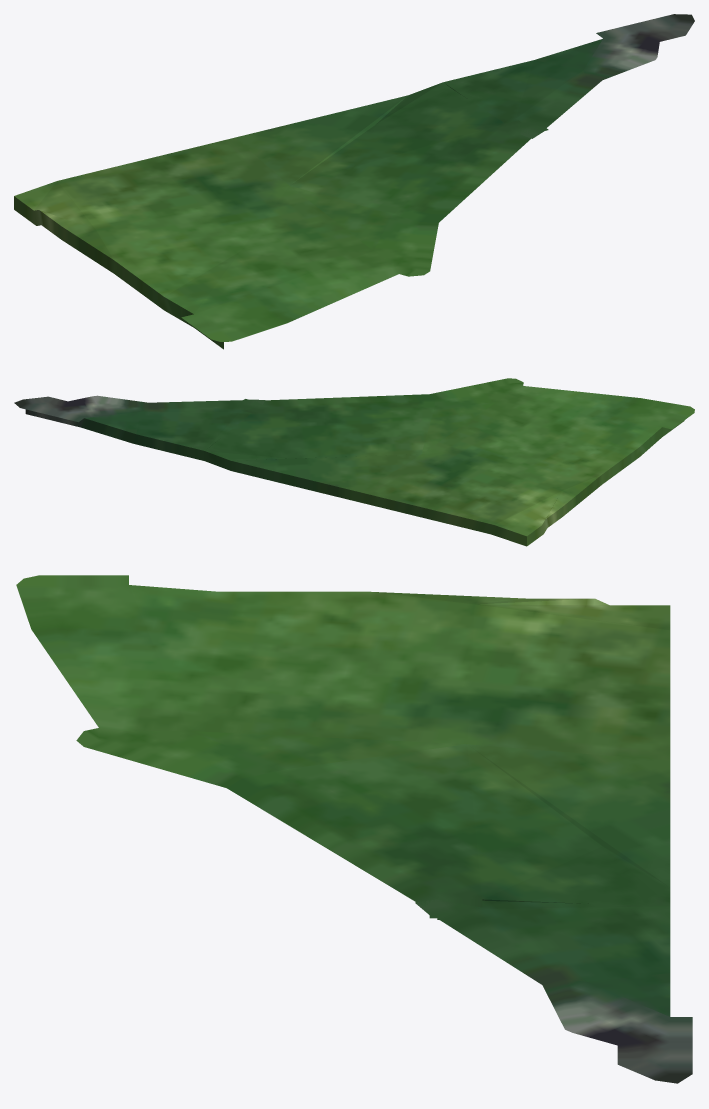
File: BuildingMesh-00048.gltf
3 renders of one model, top to bottom at view 1: azimuth 30°, elevation 25°; view 2: azimuth 150°, elevation 25°; view 3: azimuth 270°, elevation 25°, orthographic. The views are drawn at different scales.
Parts seen in each view (by area): view 1: BuildingMesh-00048; view 2: BuildingMesh-00048; view 3: BuildingMesh-00048.
Boxes of the visible parts, bbox=[...] form: BuildingMesh-00048: bbox=[14, 14, 694, 349]; BuildingMesh-00048: bbox=[14, 378, 694, 546]; BuildingMesh-00048: bbox=[16, 575, 692, 1083].
Size of the model in its own units: 0.6275 by 0.0235 by 0.3529.
1 material, 1 textured.
